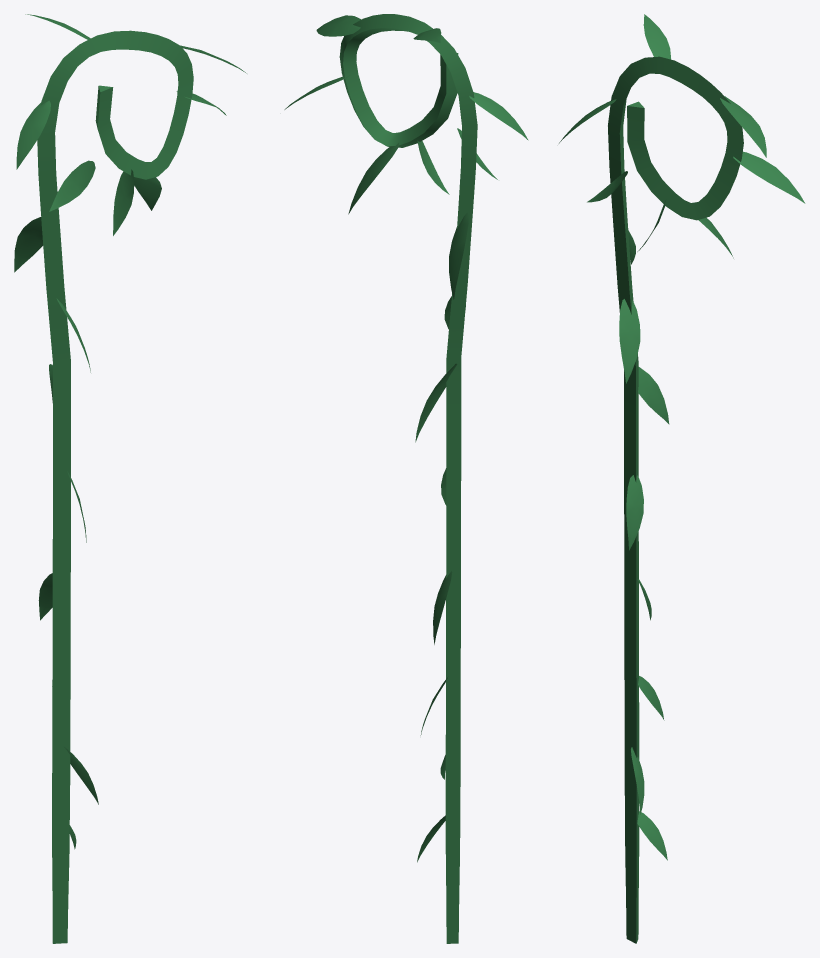
File: vine_N_scanden.fbx
The picture shows the model from 3 angles, left to right: view 1: azimuth 30°, elevation 25°; view 2: azimuth 150°, elevation 25°; view 3: azimuth 330°, elevation 25°; orthographic projection.
Visible parts, largest first — view 1: vine_N_scanden_root, vine_N_scanden_A_leaf_A44, vine_N_scanden_A_leaf_A56, vine_N_scanden_A_leaf_A46, vine_N_scanden_A_leaf_A45, vine_N_scanden_A_leaf_A47; view 2: vine_N_scanden_root, vine_N_scanden_A_leaf_A46, vine_N_scanden_A_leaf_A47, vine_N_scanden_A_leaf_A44, vine_N_scanden_A_leaf_A48, vine_N_scanden_A_leaf_A54; view 3: vine_N_scanden_root, vine_N_scanden_A_leaf_A53, vine_N_scanden_A_leaf_A49, vine_N_scanden_A_leaf_A55, vine_N_scanden_A_leaf_A54, vine_N_scanden_A_leaf_A48, vine_N_scanden_A_leaf_A, vine_N_scanden_A_leaf_A51.
Boxes of the visible parts, box(x1,y1,x2,y2) form: vine_N_scanden_root: box(37, 30, 193, 943); vine_N_scanden_A_leaf_A44: box(16, 100, 50, 169); vine_N_scanden_A_leaf_A56: box(49, 160, 95, 211); vine_N_scanden_A_leaf_A46: box(14, 217, 43, 272); vine_N_scanden_A_leaf_A45: box(113, 169, 134, 235); vine_N_scanden_A_leaf_A47: box(134, 177, 161, 210); vine_N_scanden_root: box(339, 14, 477, 943); vine_N_scanden_A_leaf_A46: box(449, 212, 468, 299); vine_N_scanden_A_leaf_A47: box(348, 143, 398, 214); vine_N_scanden_A_leaf_A44: box(469, 92, 528, 140); vine_N_scanden_A_leaf_A48: box(316, 15, 360, 36); vine_N_scanden_A_leaf_A54: box(415, 363, 457, 442); vine_N_scanden_root: box(608, 56, 743, 943); vine_N_scanden_A_leaf_A53: box(619, 299, 640, 383); vine_N_scanden_A_leaf_A49: box(733, 151, 805, 203); vine_N_scanden_A_leaf_A55: box(626, 475, 643, 550); vine_N_scanden_A_leaf_A54: box(638, 367, 669, 424); vine_N_scanden_A_leaf_A48: box(720, 96, 766, 157); vine_N_scanden_A_leaf_A: box(643, 14, 670, 59); vine_N_scanden_A_leaf_A51: box(637, 811, 667, 860).
Bounding box in the file's own units: 70.23 × 266 × 26.72.
